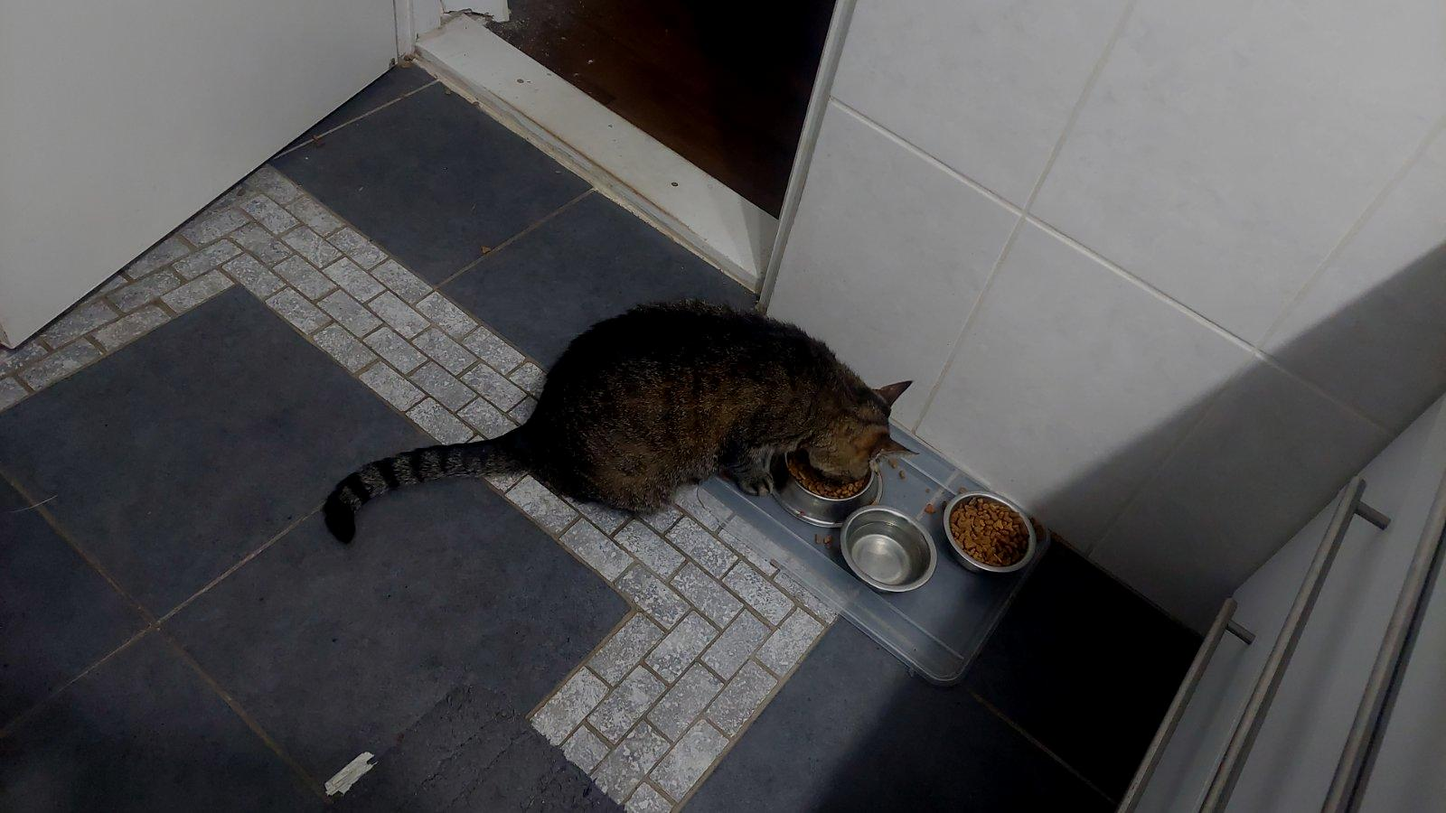macka: (325, 300, 915, 548)
